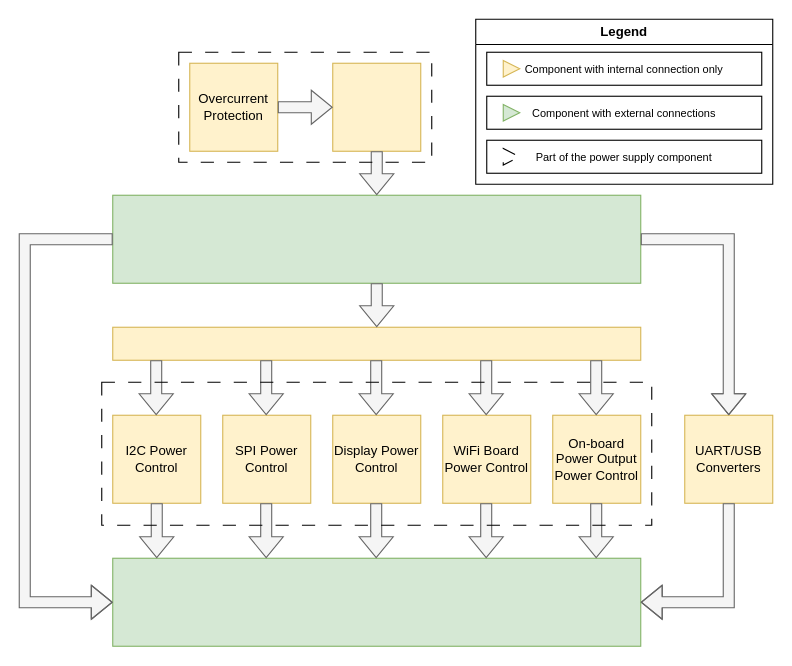
Some shapes in this 792 by 666 pixel diagram are drawn without their labels. The centre of each missing label's shape, as x and y in pixels:
"On-board Chips and Connectors" goes at [376,601].
"On-board I/O extender" goes at [376,343].
"Overvoltage protection" goes at [376,106].
"Processor Board connection" goes at [376,238].
